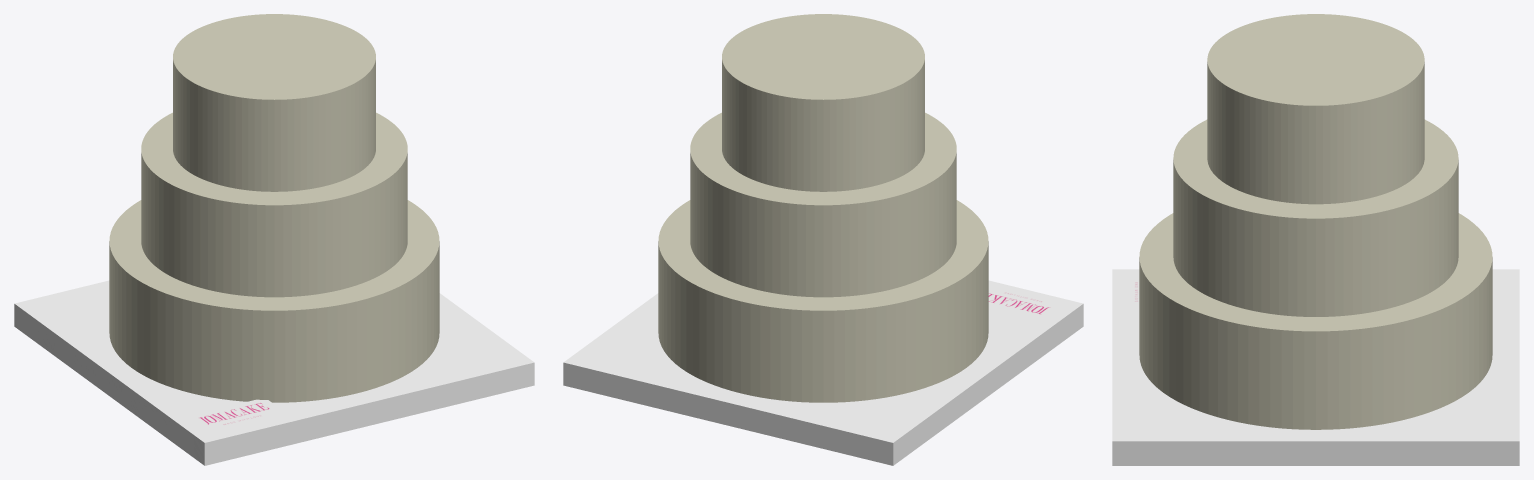
Rendered from cake_tier3_10-8-6_layers2_v45.glb.
3 renders of one model, left to right at view 1: azimuth 30°, elevation 25°; view 2: azimuth 150°, elevation 25°; view 3: azimuth 270°, elevation 25°, orthographic. The views are drawn at different scales.
Parts seen in each view (by area): view 1: Tier0, Tier2, Tier1, Board, Logo; view 2: Tier0, Tier2, Tier1, Board, Logo; view 3: Tier0, Tier2, Tier1, Board, Logo.
Boxes of the visible parts, x1=… form: Tier0: x1=109, y1=200, x2=439, y2=402; Tier2: x1=173, y1=14, x2=375, y2=191; Tier1: x1=141, y1=112, x2=407, y2=297; Board: x1=14, y1=280, x2=534, y2=465; Logo: x1=186, y1=399, x2=287, y2=433; Tier0: x1=658, y1=200, x2=988, y2=402; Tier2: x1=722, y1=14, x2=924, y2=191; Tier1: x1=690, y1=112, x2=956, y2=297; Board: x1=563, y1=280, x2=1083, y2=465; Logo: x1=988, y1=283, x2=1067, y2=319; Tier0: x1=1139, y1=213, x2=1492, y2=429; Tier2: x1=1207, y1=14, x2=1424, y2=204; Tier1: x1=1173, y1=119, x2=1458, y2=316; Board: x1=1112, y1=269, x2=1519, y2=465; Logo: x1=1124, y1=271, x2=1139, y2=312.
Size of the model in its own units: 0.3 by 0.26 by 0.3.
